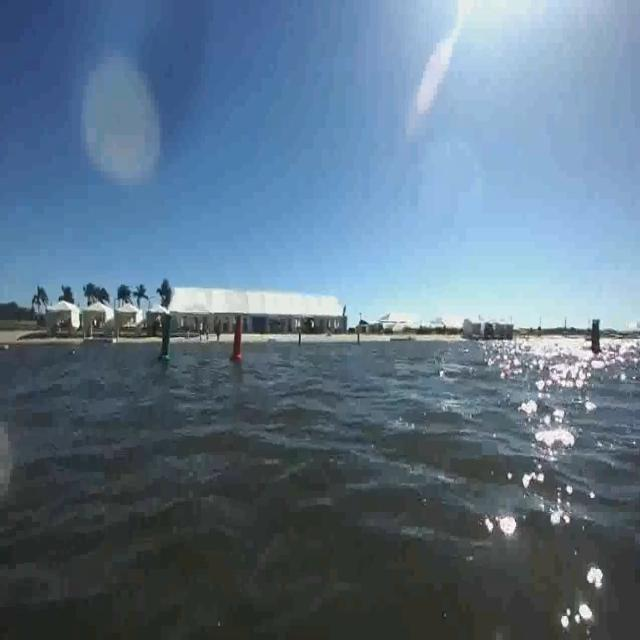green-column-buoy: (158, 312, 176, 363)
red-column-buoy: (232, 318, 246, 362)
